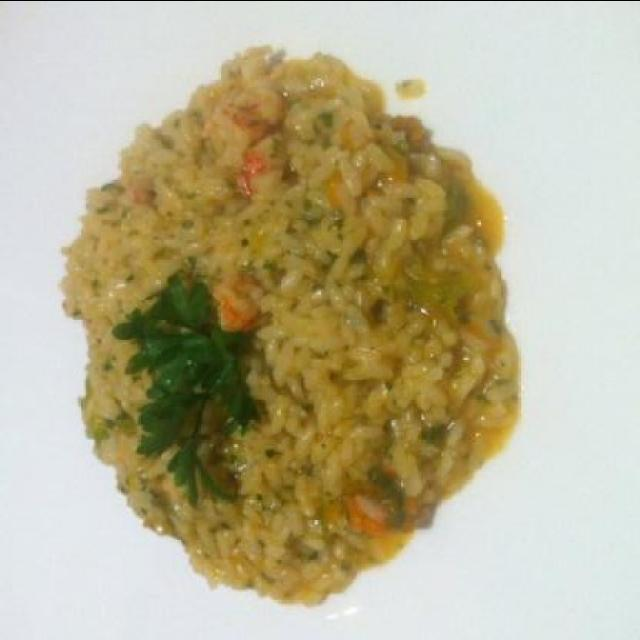Risotto: (65, 78, 498, 608)
